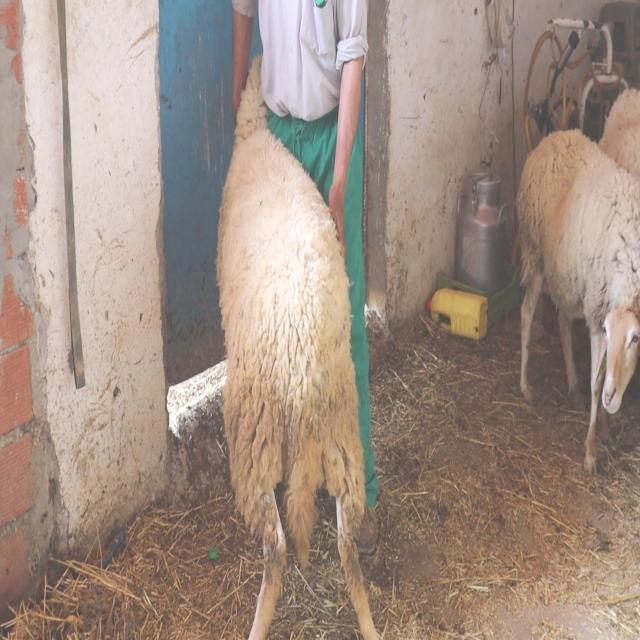Score_4: (217, 56, 379, 639)
